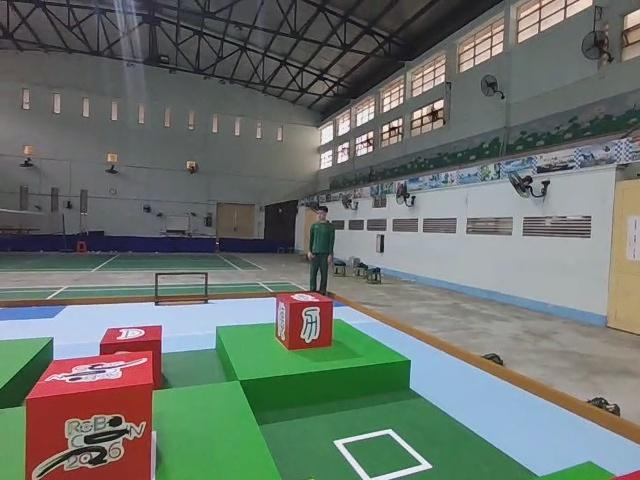R1: (23, 348, 154, 480)
R2 Fake: (275, 290, 335, 352)
